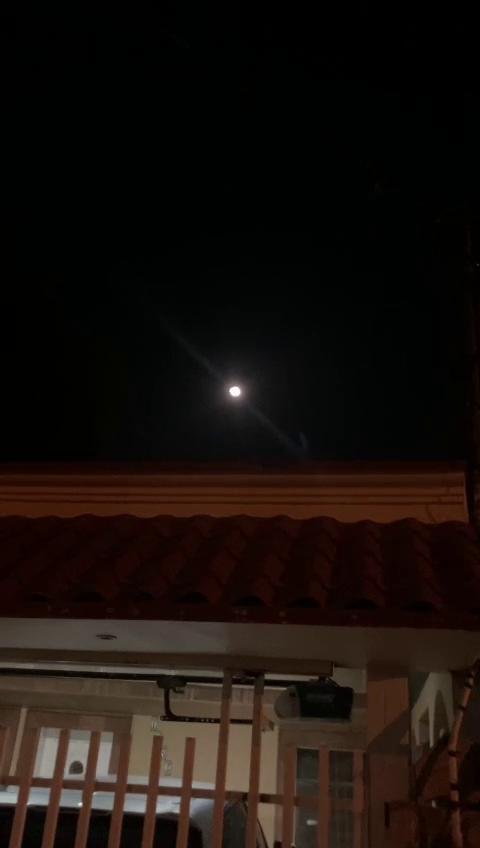moon: (227, 383, 246, 402)
